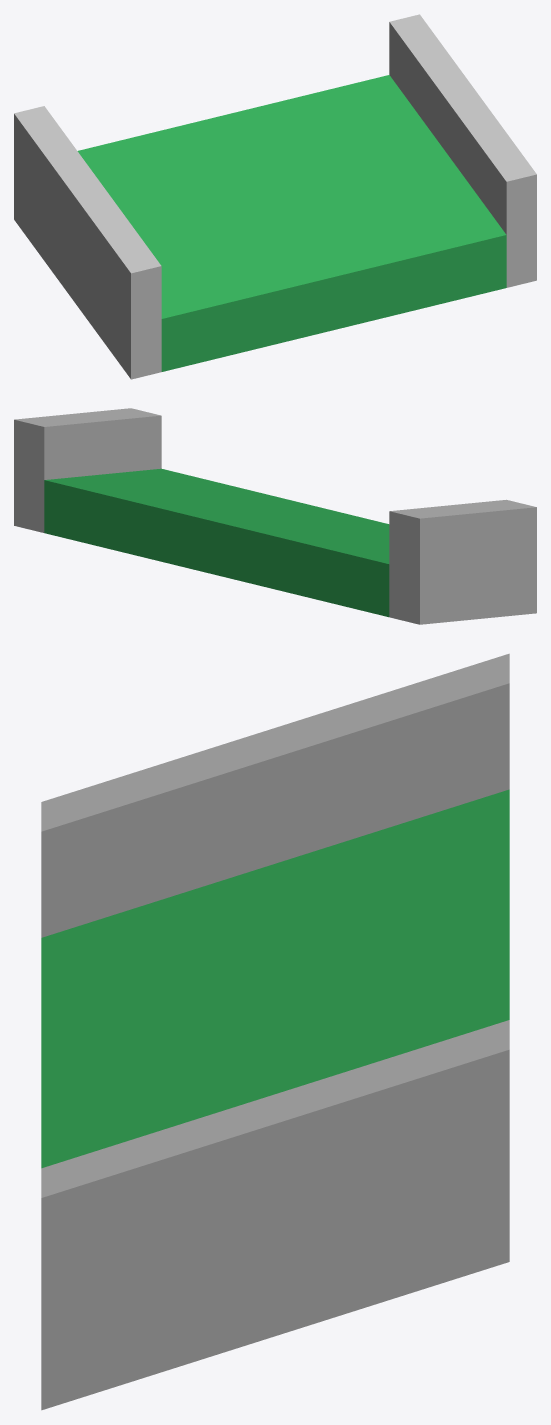
File: SPW_Terrain_City River_Plan B_Down.gltf
3 views of the same model, one above another, from view 1: azimuth 30°, elevation 25°; view 2: azimuth 150°, elevation 25°; view 3: azimuth 270°, elevation 25° (orthographic). The views are drawn at different scales.
Visible parts, largest first — view 1: SPW_Terrain_City_River_Plan_B_Down; view 2: SPW_Terrain_City_River_Plan_B_Down; view 3: SPW_Terrain_City_River_Plan_B_Down.
Boxes of the visible parts, x1,y1,x2,y2 form: SPW_Terrain_City_River_Plan_B_Down: [14, 14, 536, 379]; SPW_Terrain_City_River_Plan_B_Down: [14, 408, 536, 624]; SPW_Terrain_City_River_Plan_B_Down: [41, 653, 509, 1410].
Bounding box in the file's own units: 1575 × 669 × 787.
1 material, 1 textured.
